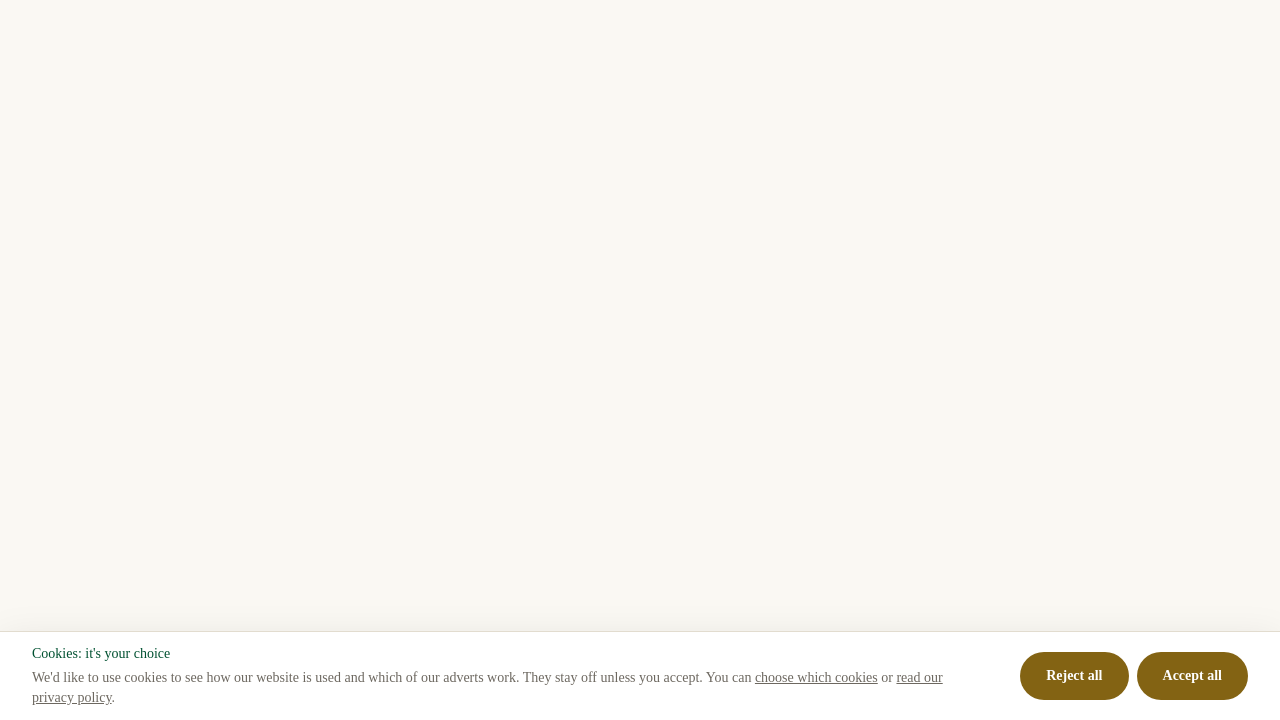
Scenario: the cookie banner › stays under its own preferences panel, so the link that opened it can take focus back
Click the button "choose which cookies" at point(816, 678), box [755,668,878,688]
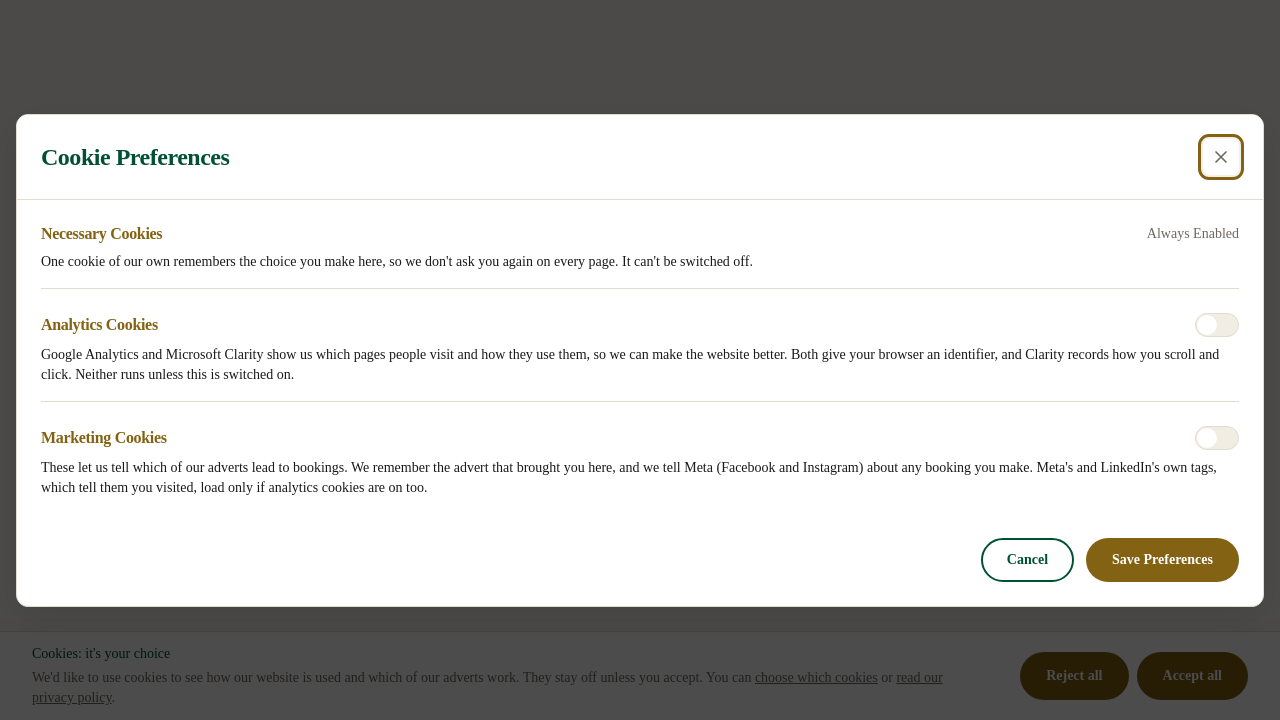
Check: the dialog "Cookie Preferences" is shown
